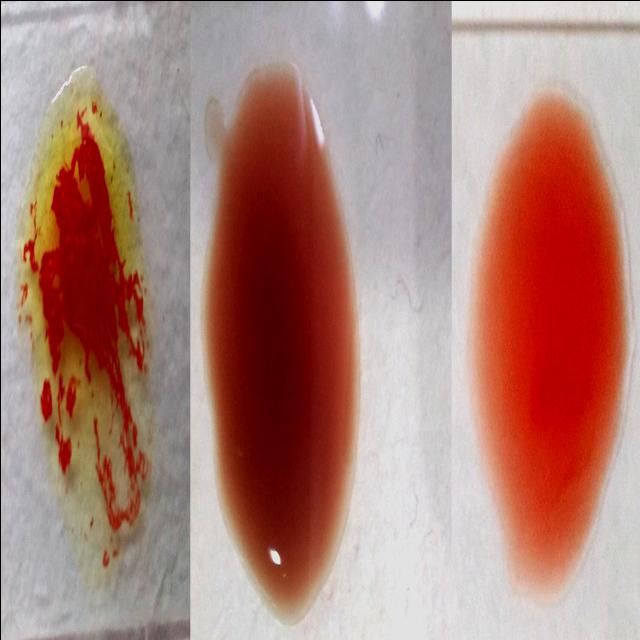B: (16, 74, 148, 552)
